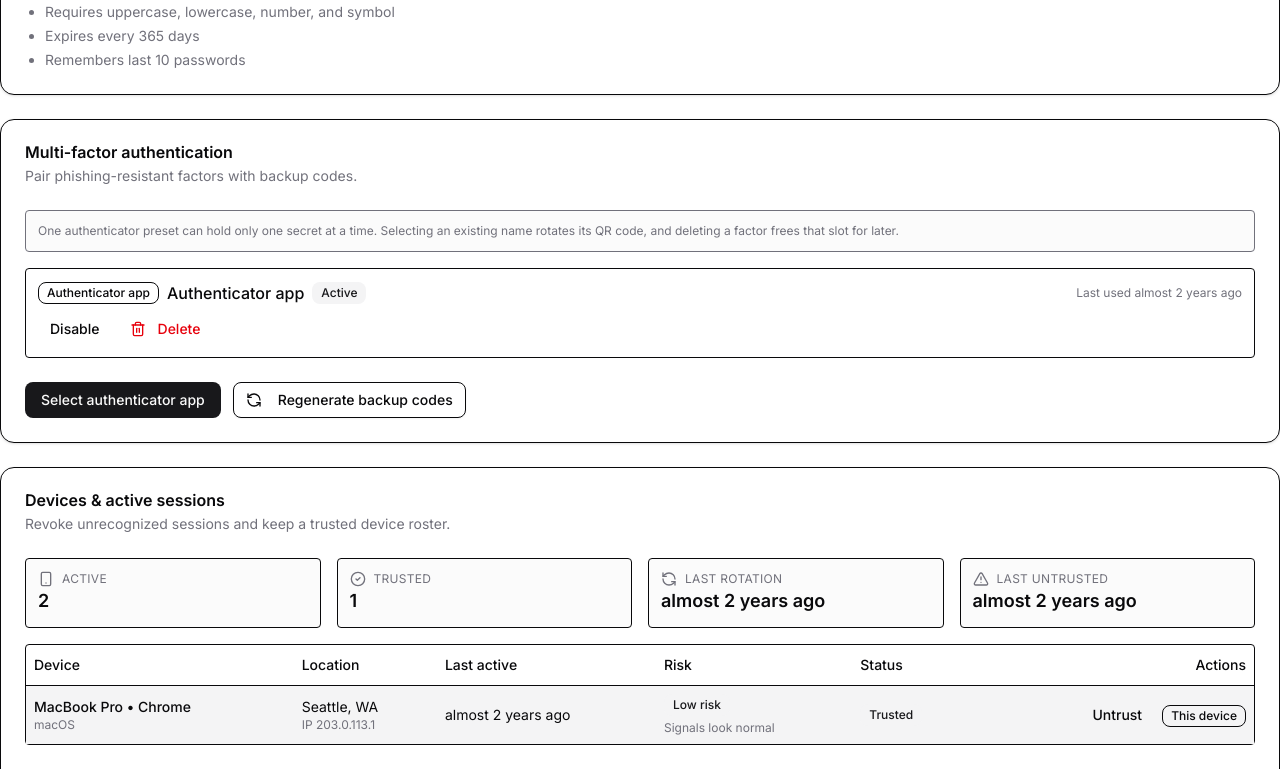
Test case: AccountSecuritySettingsPage › regenerates backup codes and surfaces them in the modal
(page scrolled)
What coordinates should you click on to do the following:
click the button "Regenerate backup codes"
I would click on:
 (349, 400)
Its box is [233,382,466,418].
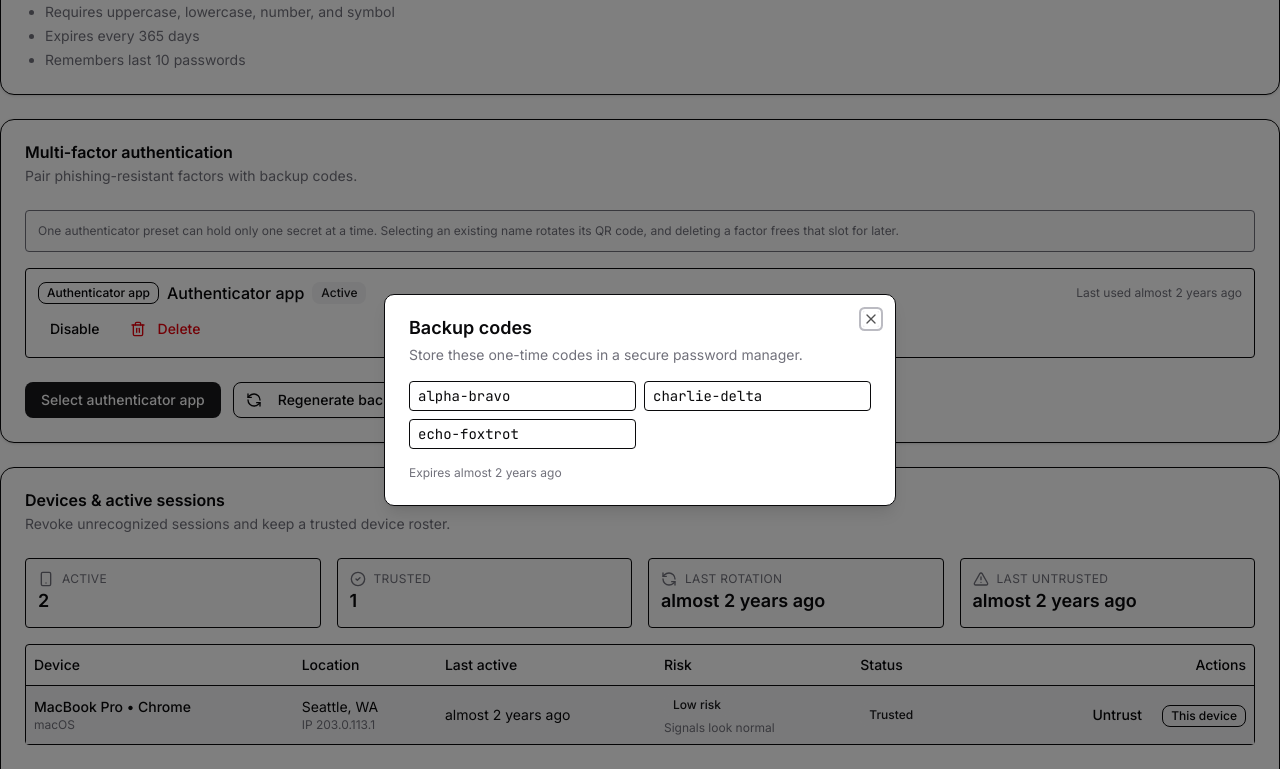
Expected: the text "alpha-bravo" is shown, [409,381,636,411]
Expected: the text "Expires" is shown, [409,465,454,480]
